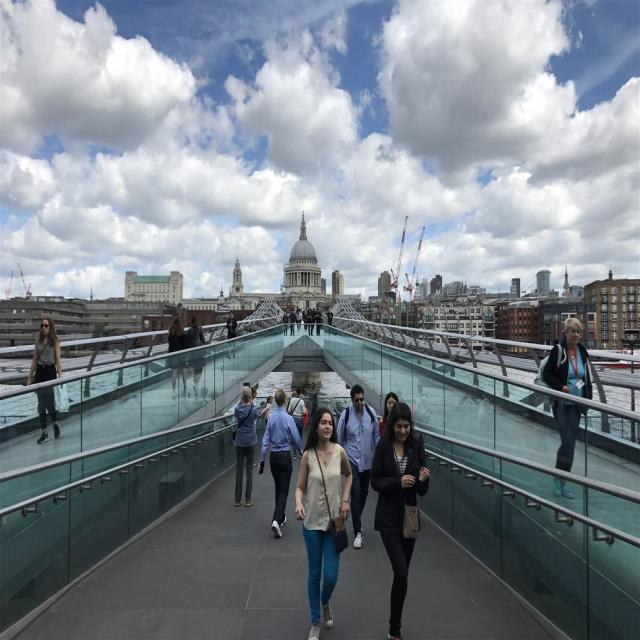body: (368, 401, 432, 639), (293, 408, 354, 639), (531, 315, 594, 500), (330, 382, 385, 551), (258, 388, 304, 538), (24, 316, 71, 446), (231, 384, 258, 508), (163, 316, 190, 400), (186, 314, 206, 396), (286, 386, 307, 460), (377, 391, 400, 438), (224, 309, 238, 360), (189, 385, 219, 408), (476, 391, 494, 429), (257, 395, 274, 427), (414, 383, 430, 414), (308, 382, 318, 418), (313, 307, 323, 336), (286, 391, 298, 414), (287, 308, 296, 336), (326, 306, 334, 335), (306, 307, 314, 336), (282, 310, 289, 336), (294, 309, 300, 332), (298, 308, 304, 330), (300, 390, 307, 408), (302, 308, 308, 329), (275, 309, 282, 326), (396, 387, 404, 400), (312, 306, 316, 321), (320, 306, 323, 326), (301, 306, 305, 313), (295, 305, 299, 310), (294, 308, 296, 314)
